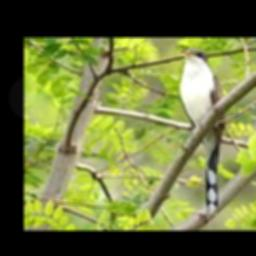Cuckoo: (178, 48, 224, 214)
